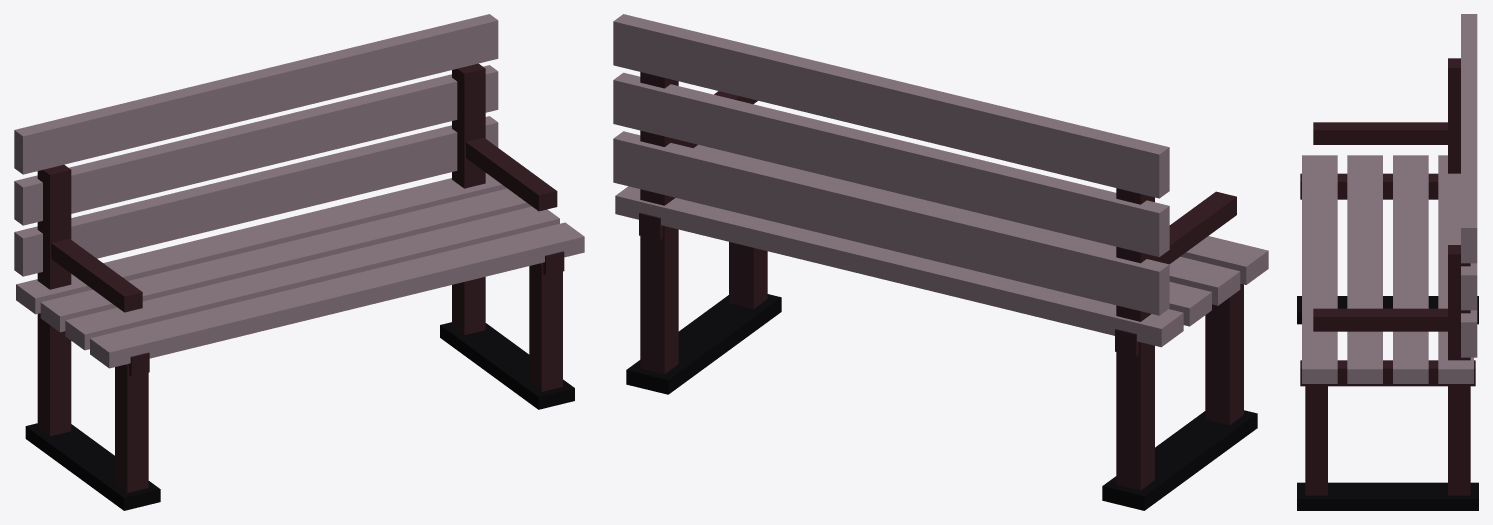
The model's file is SM_Bench_Standard.obj.
3 views of the same model, side by side, from view 1: azimuth 30°, elevation 25°; view 2: azimuth 150°, elevation 25°; view 3: azimuth 270°, elevation 25° (orthographic). The views are drawn at different scales.
Parts seen in each view (by area): view 1: back_slat_2, back_slat_1, back_slat_0, seat_slat_3, seat_slat_2, seat_slat_1, seat_slat_0, leg_back_0, leg_back_1, foot_1, foot_0, leg_front_1 (+3 smaller); view 2: back_slat_2, back_slat_1, back_slat_0, seat_slat_0, leg_back_0, leg_back_1, foot_1, foot_0, leg_front_0, seat_slat_2, arm_l, leg_front_1 (+2 smaller); view 3: seat_slat_3, seat_slat_1, seat_slat_2, foot_1, back_slat_2, leg_back_1, seat_slat_0, arm_r, arm_l, leg_front_1, leg_back_0, seat_rail_1 (+4 smaller).
Part boxes in pixels (bbox=[...]): back_slat_2: bbox=[14, 14, 498, 174]; back_slat_1: bbox=[14, 65, 498, 225]; back_slat_0: bbox=[14, 116, 498, 276]; seat_slat_3: bbox=[90, 222, 584, 368]; seat_slat_2: bbox=[65, 206, 559, 350]; seat_slat_1: bbox=[40, 188, 531, 332]; seat_slat_0: bbox=[16, 173, 506, 314]; leg_back_0: bbox=[37, 165, 71, 436]; leg_back_1: bbox=[452, 63, 485, 335]; foot_1: bbox=[440, 322, 574, 409]; foot_0: bbox=[25, 423, 160, 510]; leg_front_1: bbox=[529, 263, 562, 391]; back_slat_2: bbox=[613, 14, 1169, 198]; back_slat_1: bbox=[613, 72, 1169, 256]; back_slat_0: bbox=[613, 131, 1169, 315]; seat_slat_0: bbox=[615, 186, 1183, 347]; leg_back_0: bbox=[1116, 188, 1154, 490]; leg_back_1: bbox=[640, 72, 678, 374]; foot_1: bbox=[626, 294, 781, 394]; foot_0: bbox=[1102, 410, 1257, 510]; leg_front_0: bbox=[1205, 284, 1243, 425]; seat_slat_2: bbox=[694, 144, 1240, 305]; arm_l: bbox=[1155, 191, 1236, 264]; leg_front_1: bbox=[729, 242, 767, 308]; seat_slat_3: bbox=[1302, 155, 1337, 383]; seat_slat_1: bbox=[1393, 155, 1428, 383]; seat_slat_2: bbox=[1347, 155, 1382, 383]; foot_1: bbox=[1297, 482, 1478, 510]; back_slat_2: bbox=[1461, 14, 1477, 263]; leg_back_1: bbox=[1448, 245, 1470, 495]; seat_slat_0: bbox=[1438, 155, 1473, 383]; arm_r: bbox=[1313, 308, 1447, 331]; arm_l: bbox=[1313, 122, 1447, 144]; leg_front_1: bbox=[1305, 384, 1327, 495]; leg_back_0: bbox=[1448, 58, 1460, 173]; seat_rail_1: bbox=[1300, 360, 1475, 386].
Bounding box in the file's own units: 1.56 × 0.98 × 0.56.
